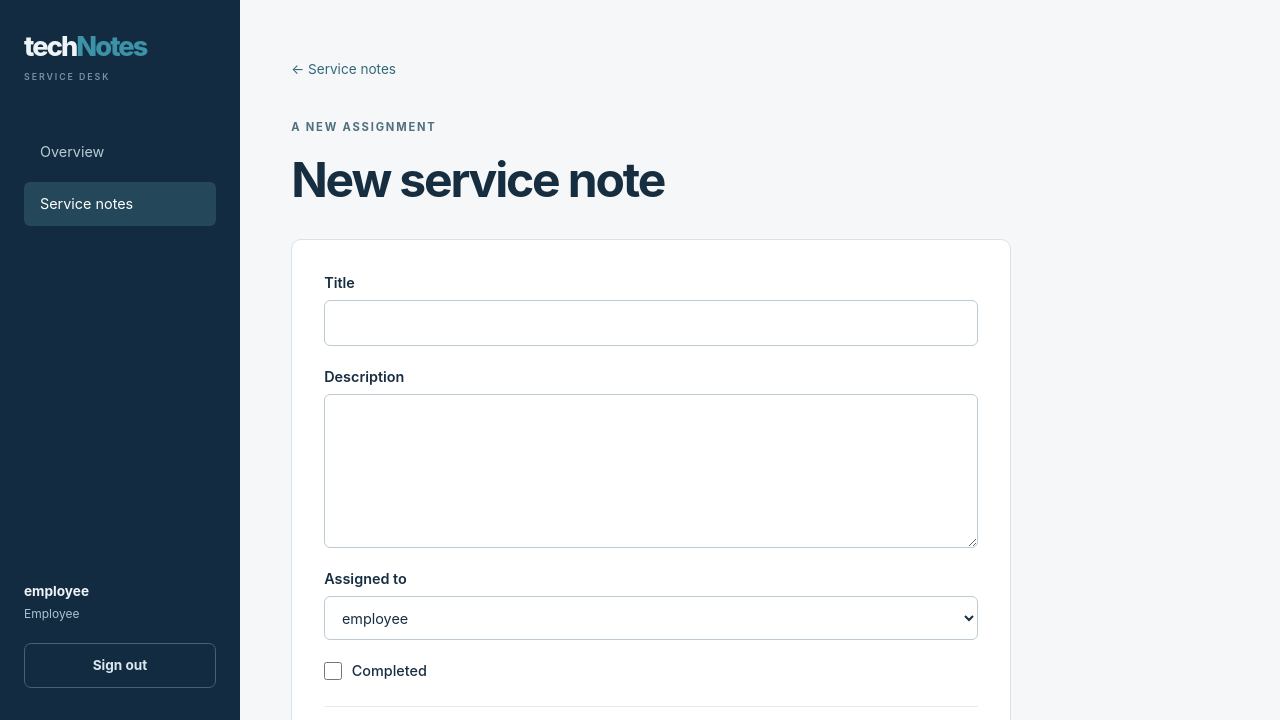
Scenario: new note sends the full API contract and returns to the queue
The width and height of the screenshot is (1280, 720).
Type "Oil service" into the field labelled "Title". click: (651, 323)
box: [324,300,978,346]
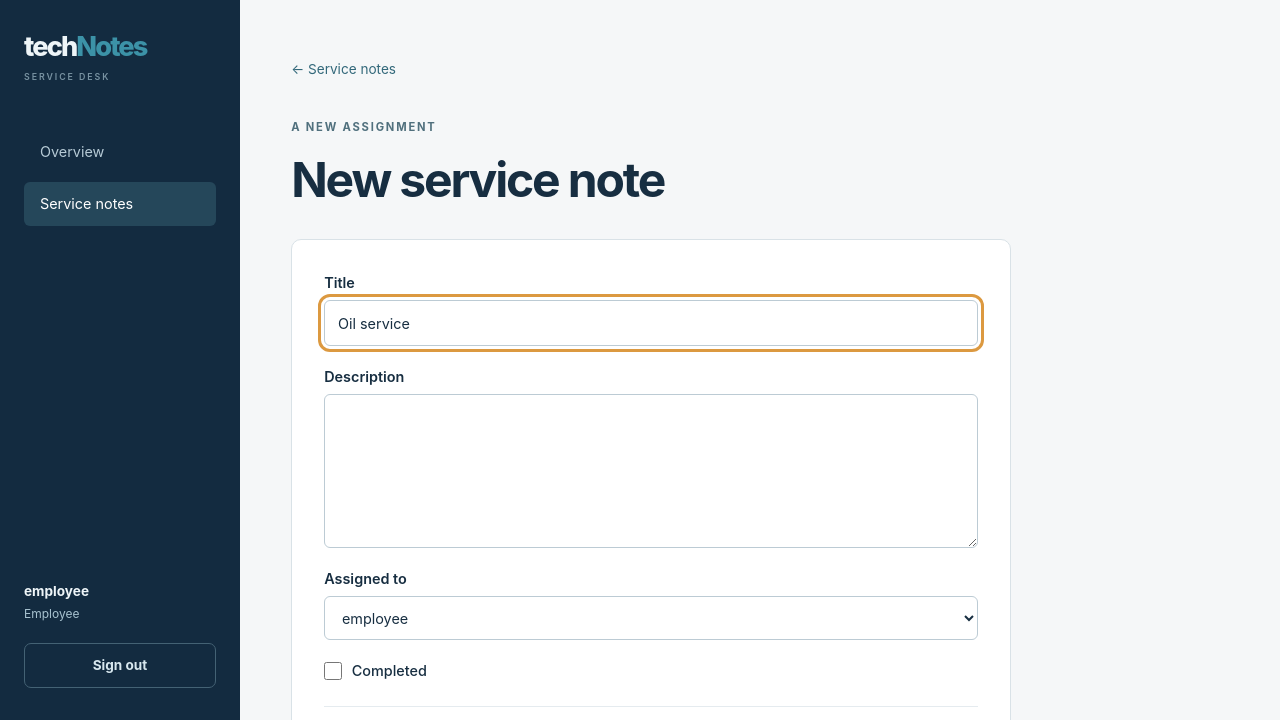
Type "Change the oil." into the text box labelled "Description". click: (651, 471)
box: [324,394,978,548]
(page scrolled)
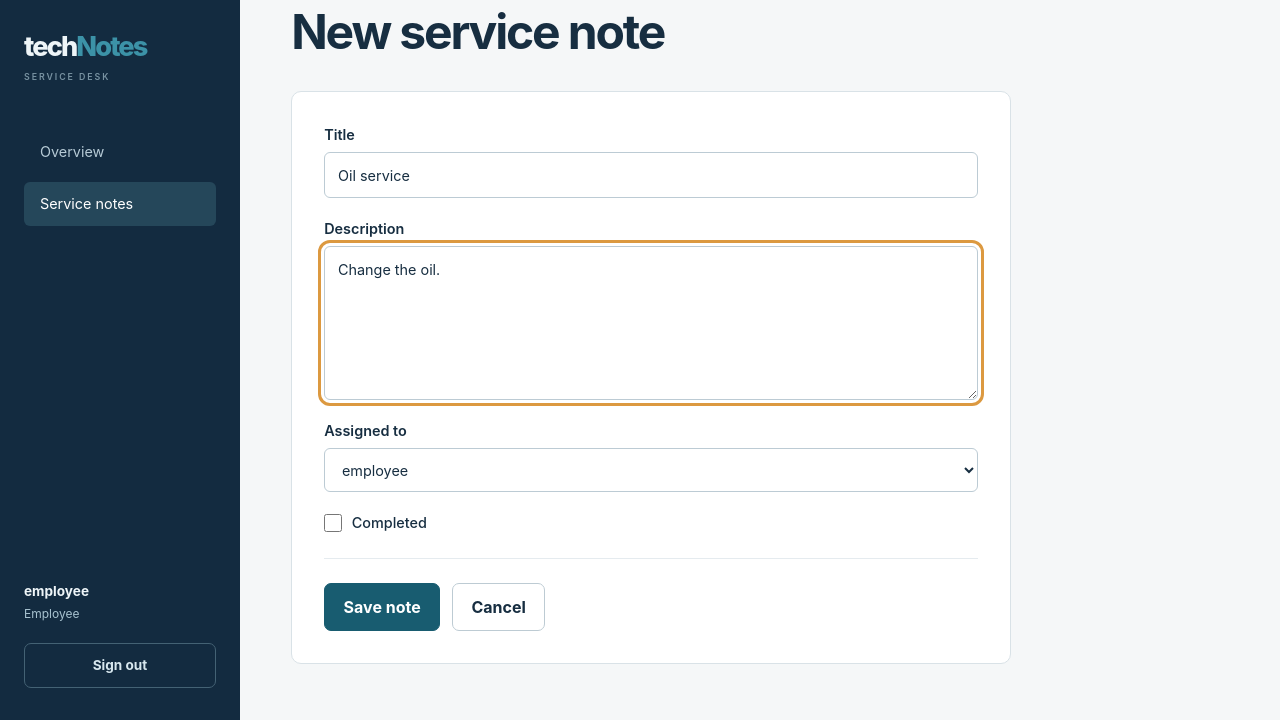
Click the button "Save note". click: (382, 607)
box: [324,583,440,631]
(page scrolled)
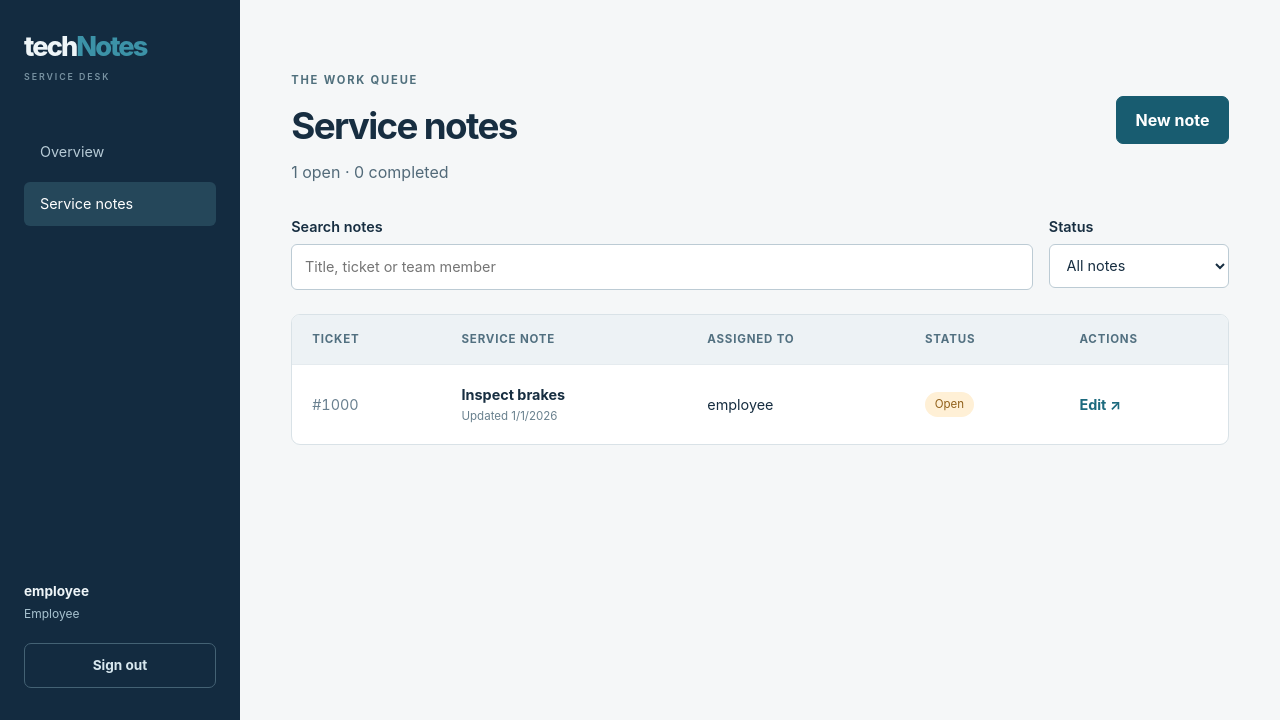
Expected: the heading "Service notes" is shown, [291,105,517,147]
